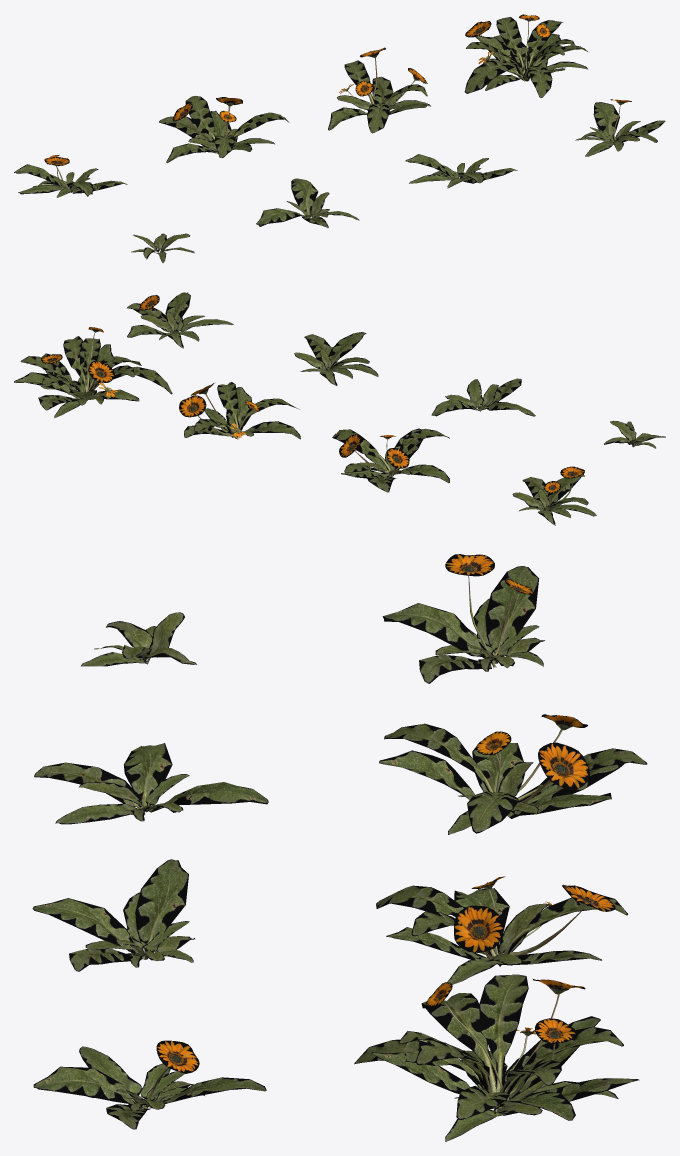
Rendered from flower_gazania.glb.
3 views of the same model, one above another, from view 1: azimuth 30°, elevation 25°; view 2: azimuth 150°, elevation 25°; view 3: azimuth 270°, elevation 25° (orthographic). The views are drawn at different scales.
Parts seen in each view (by area): view 1: flower_gazania_a_LOD0; view 2: flower_gazania_a_LOD0; view 3: flower_gazania_a_LOD0.
Boxes of the visible parts, x1,y1,x2,y2 form: flower_gazania_a_LOD0: (14, 14, 665, 262); flower_gazania_a_LOD0: (14, 292, 665, 525); flower_gazania_a_LOD0: (32, 554, 647, 1141).
Size of the model in its own units: 1.48 by 0.1656 by 0.7028.
Materials: 1 (1 with a texture image).
